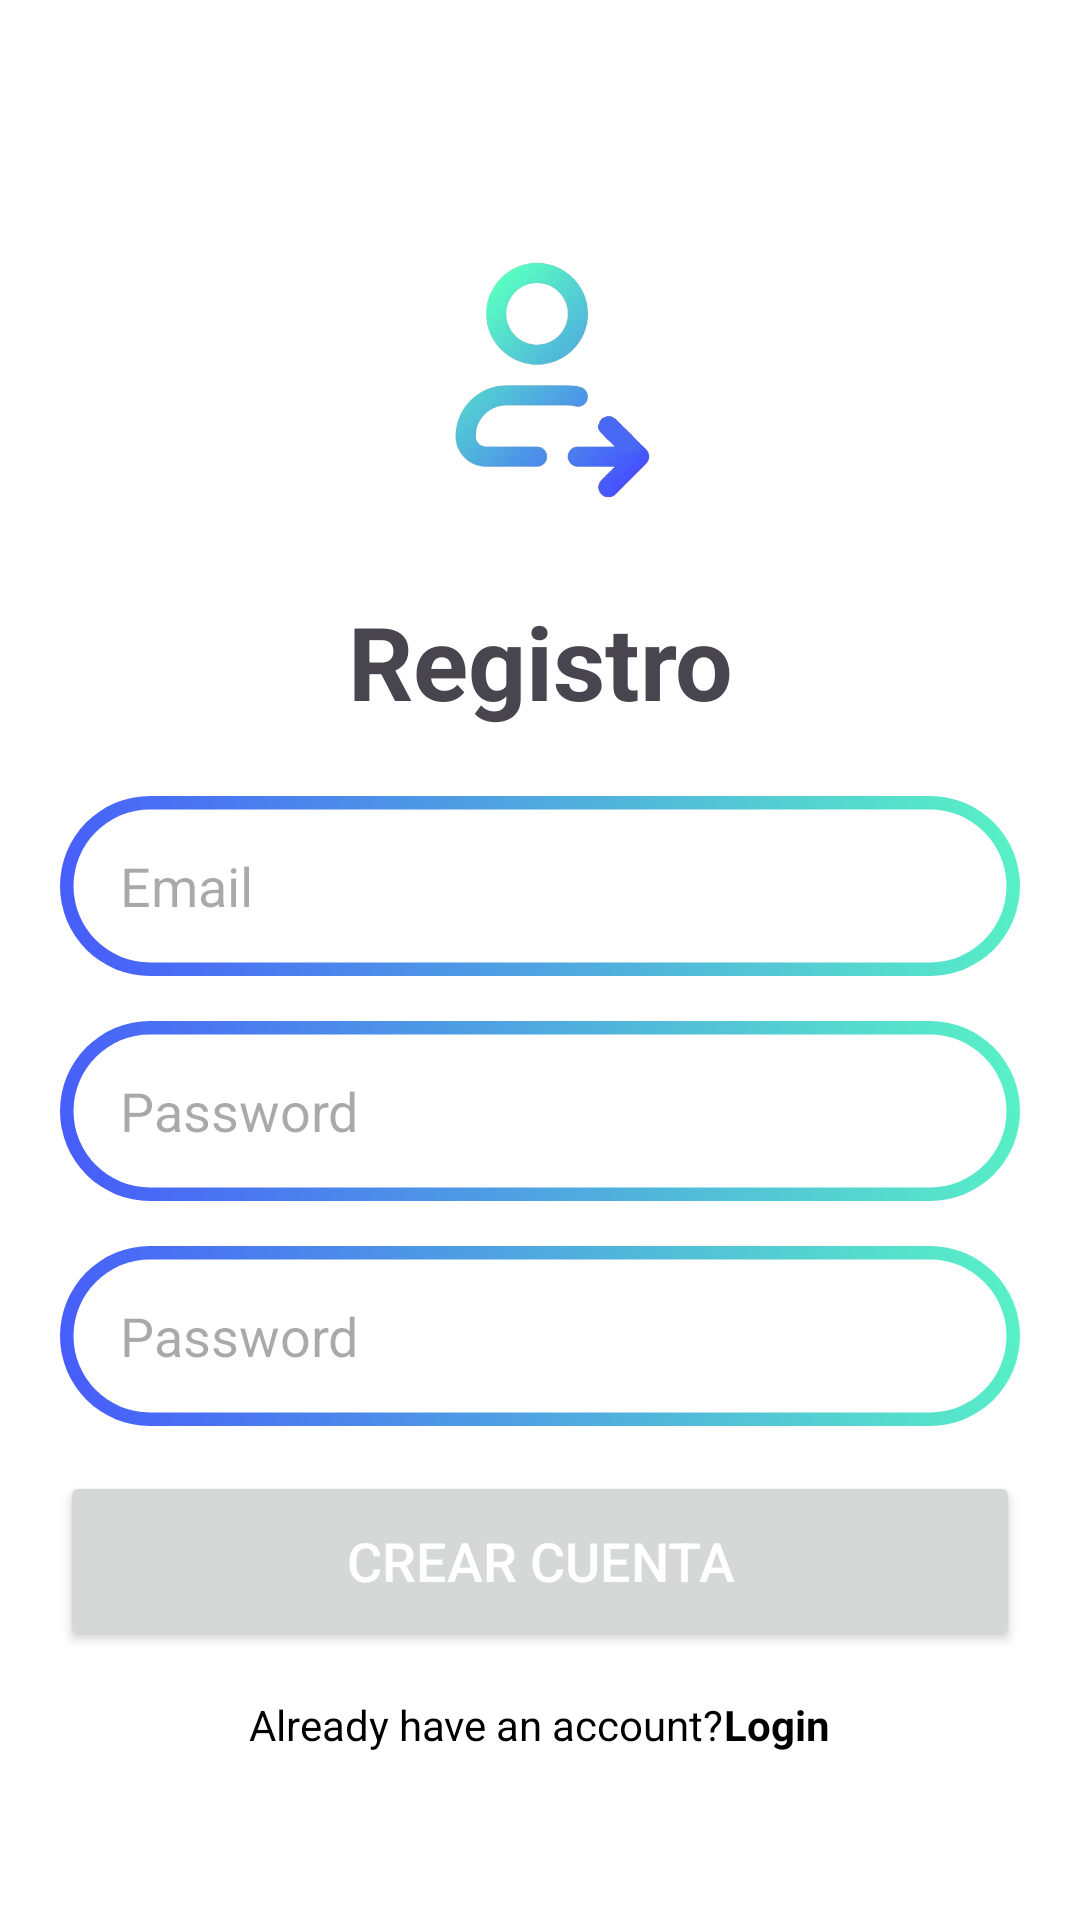

Where to tap for icons on this 1080×1920 app screen, as (x=x, y=y):
account: (x=552, y=380)
